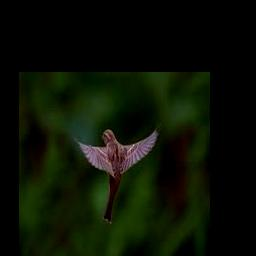Sparrow: (72, 122, 161, 224)
